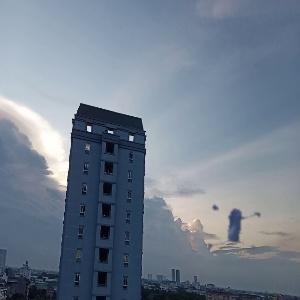drone: (182, 178, 274, 270)
